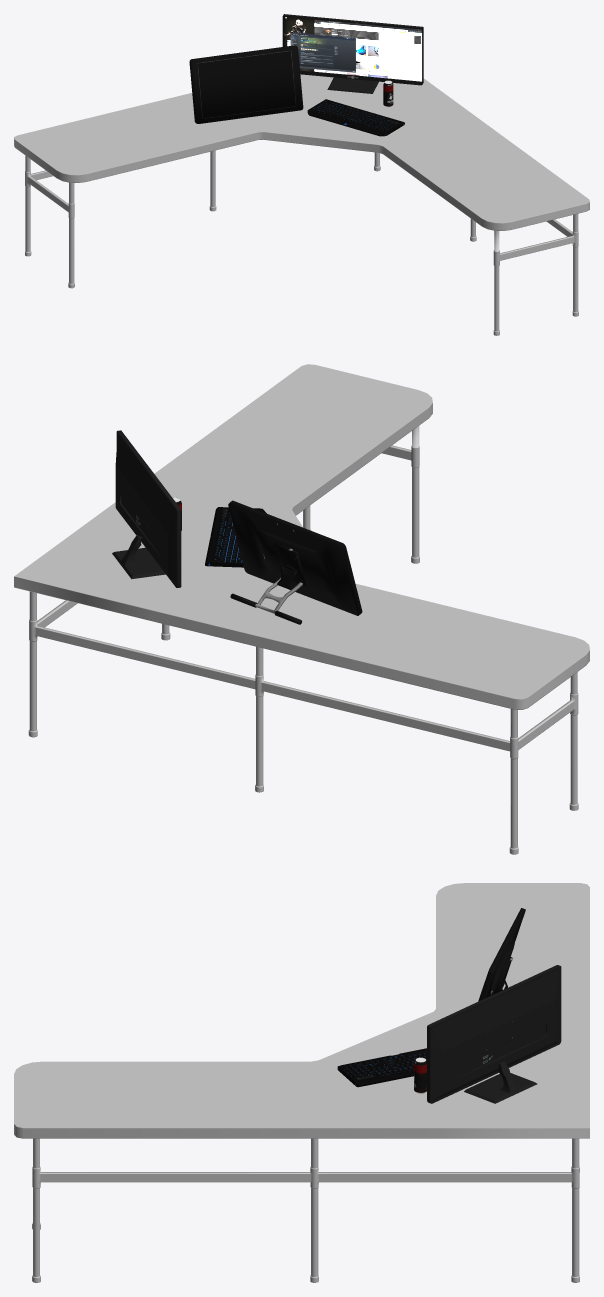
3 views of the same model, one above another, from view 1: azimuth 30°, elevation 25°; view 2: azimuth 150°, elevation 25°; view 3: azimuth 270°, elevation 25° (orthographic). The views are drawn at different scales.
Parts seen in each view (by area): view 1: Desk, Monitor_Wide, 1_M_HUION_KAMVAS_GT_221_PRO_0, Keyboard; view 2: Desk, 1_M_HUION_KAMVAS_GT_221_PRO_0, Monitor_Wide, Keyboard; view 3: Desk, Monitor_Wide, Keyboard, 1_M_HUION_KAMVAS_GT_221_PRO_0.
Boxes of the visible parts, box(x1,y1,x2,y2) form: Desk: box(14, 74, 589, 335); Monitor_Wide: box(282, 14, 423, 93); 1_M_HUION_KAMVAS_GT_221_PRO_0: box(189, 45, 303, 123); Keyboard: box(307, 99, 404, 136); Desk: box(14, 364, 589, 854); 1_M_HUION_KAMVAS_GT_221_PRO_0: box(228, 500, 362, 624); Monitor_Wide: box(112, 430, 181, 587); Keyboard: box(205, 507, 266, 567); Desk: box(14, 883, 589, 1282); Monitor_Wide: box(427, 965, 561, 1103); Keyboard: box(337, 1048, 426, 1087); 1_M_HUION_KAMVAS_GT_221_PRO_0: box(478, 908, 525, 1001).
Size of the model in its own units: 214 by 102 by 213.
